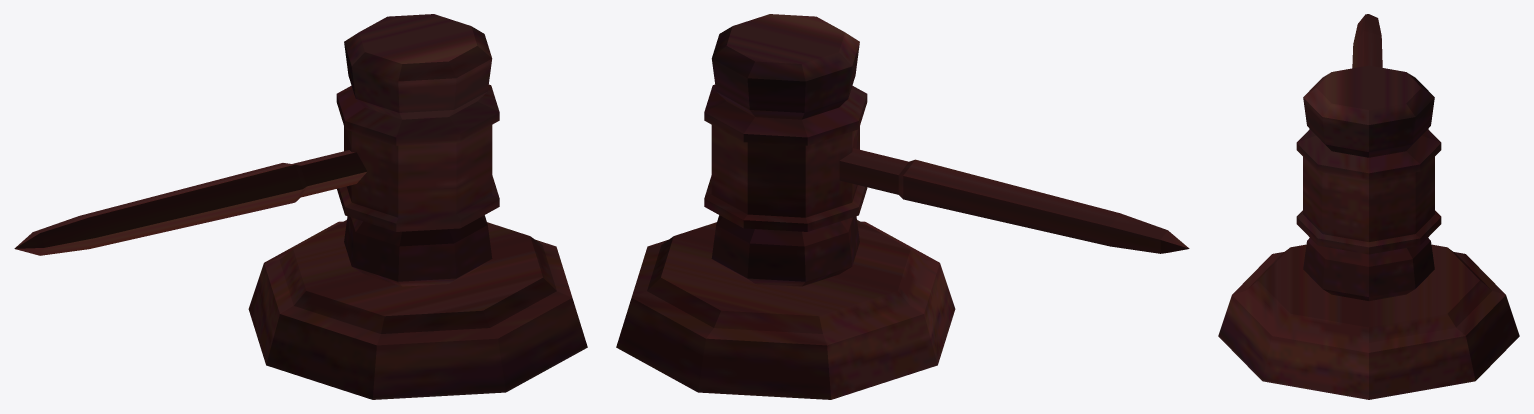
The model's file is saib.ico.obj.
3 renders of one model, left to right at view 1: azimuth 30°, elevation 25°; view 2: azimuth 150°, elevation 25°; view 3: azimuth 270°, elevation 25°, orthographic. The views are drawn at different scales.
Bounding box in the file's own units: 2.54 × 1.26 × 1.39.
Materials: 1 (1 with a texture image).
